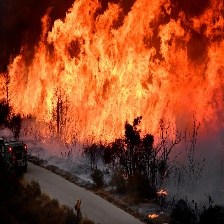fire: (1, 1, 221, 134), (164, 134, 224, 207)
smoke: (36, 146, 112, 178)
